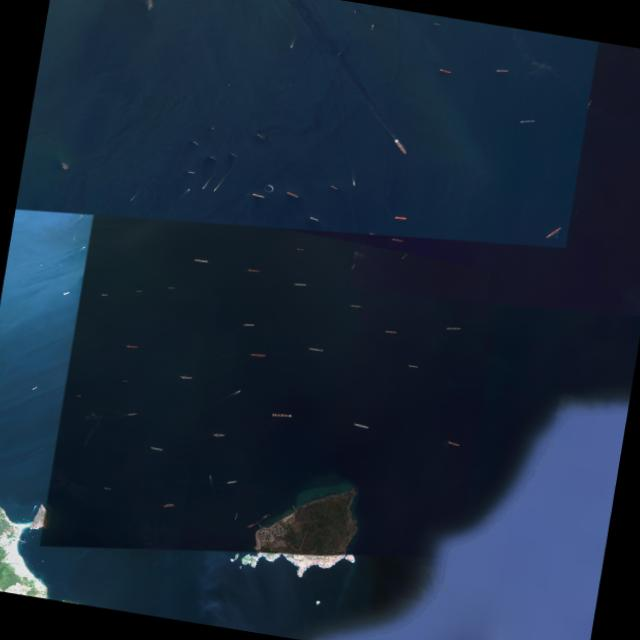ship: (394, 139, 408, 155), (546, 227, 562, 238), (353, 423, 369, 429), (286, 191, 299, 198), (272, 414, 292, 418), (447, 441, 460, 447), (149, 447, 163, 452), (252, 193, 265, 198), (391, 238, 404, 243), (439, 69, 452, 74), (308, 348, 324, 352), (194, 259, 208, 263), (586, 100, 592, 109), (247, 269, 260, 273), (250, 354, 266, 357), (520, 120, 535, 123), (309, 217, 319, 221), (294, 283, 307, 286), (212, 434, 225, 437), (349, 305, 362, 308), (394, 217, 407, 220), (385, 331, 397, 334), (163, 505, 175, 508), (407, 365, 419, 368), (351, 264, 356, 271), (401, 254, 408, 259), (226, 481, 237, 484), (262, 514, 268, 519), (127, 413, 137, 416), (193, 141, 199, 146), (446, 328, 461, 330), (210, 156, 217, 160), (331, 186, 338, 190), (496, 70, 509, 72), (243, 324, 255, 326), (181, 377, 193, 379), (126, 346, 138, 348), (369, 233, 376, 236), (434, 23, 441, 26), (234, 515, 238, 520), (249, 524, 254, 528), (258, 134, 263, 138), (231, 154, 237, 157), (371, 24, 374, 30), (64, 292, 70, 295), (32, 387, 38, 390), (103, 488, 111, 490), (166, 504, 173, 506), (168, 287, 175, 289), (122, 380, 129, 382), (76, 395, 82, 397), (188, 172, 194, 174), (247, 525, 250, 528), (297, 249, 304, 250), (101, 295, 108, 296), (238, 390, 241, 392), (180, 376, 186, 377), (136, 291, 142, 292), (214, 190, 216, 192), (209, 475, 211, 477), (101, 294, 105, 295), (354, 11, 356, 13), (202, 187, 204, 189), (83, 247, 85, 249), (353, 184, 355, 186), (338, 54, 340, 55), (188, 189, 190, 190), (40, 265, 42, 266), (60, 265, 62, 266), (131, 199, 132, 201), (291, 47, 292, 48), (74, 239, 75, 240)
storage-tank: (276, 529, 281, 533), (272, 530, 277, 534), (275, 533, 279, 537), (280, 528, 285, 531), (263, 532, 267, 535), (278, 532, 281, 536), (260, 533, 263, 536), (267, 534, 270, 537), (269, 533, 272, 535), (261, 536, 264, 538), (263, 538, 266, 540), (269, 535, 271, 537), (269, 537, 271, 539), (267, 538, 269, 540), (268, 538, 270, 540), (269, 540, 271, 542), (284, 532, 286, 534), (283, 533, 285, 535), (285, 530, 287, 532), (282, 531, 284, 533), (266, 540, 269, 541), (267, 537, 269, 538), (281, 534, 283, 535), (284, 531, 285, 532)
